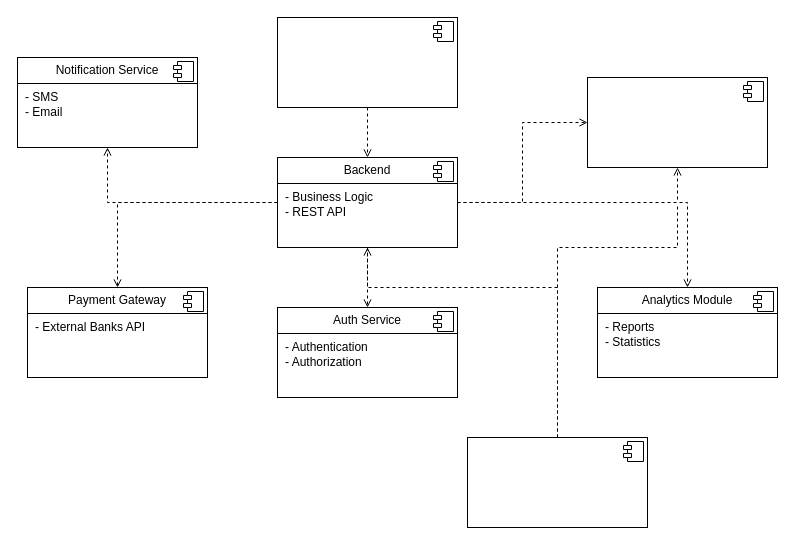
Image size: 795x545. Some labels were removed from this diagram. The shapes that lost their labels are listed below. From the top down, each one's box as (x1, y1, x2, y2) in pixels, then its label:
(276, 16, 458, 108): Frontend - Web App - Mobile App
(586, 76, 768, 168): Database - Clients - Accounts - Transactions
(466, 436, 648, 528): Monitoring System - Logging - Health Check
